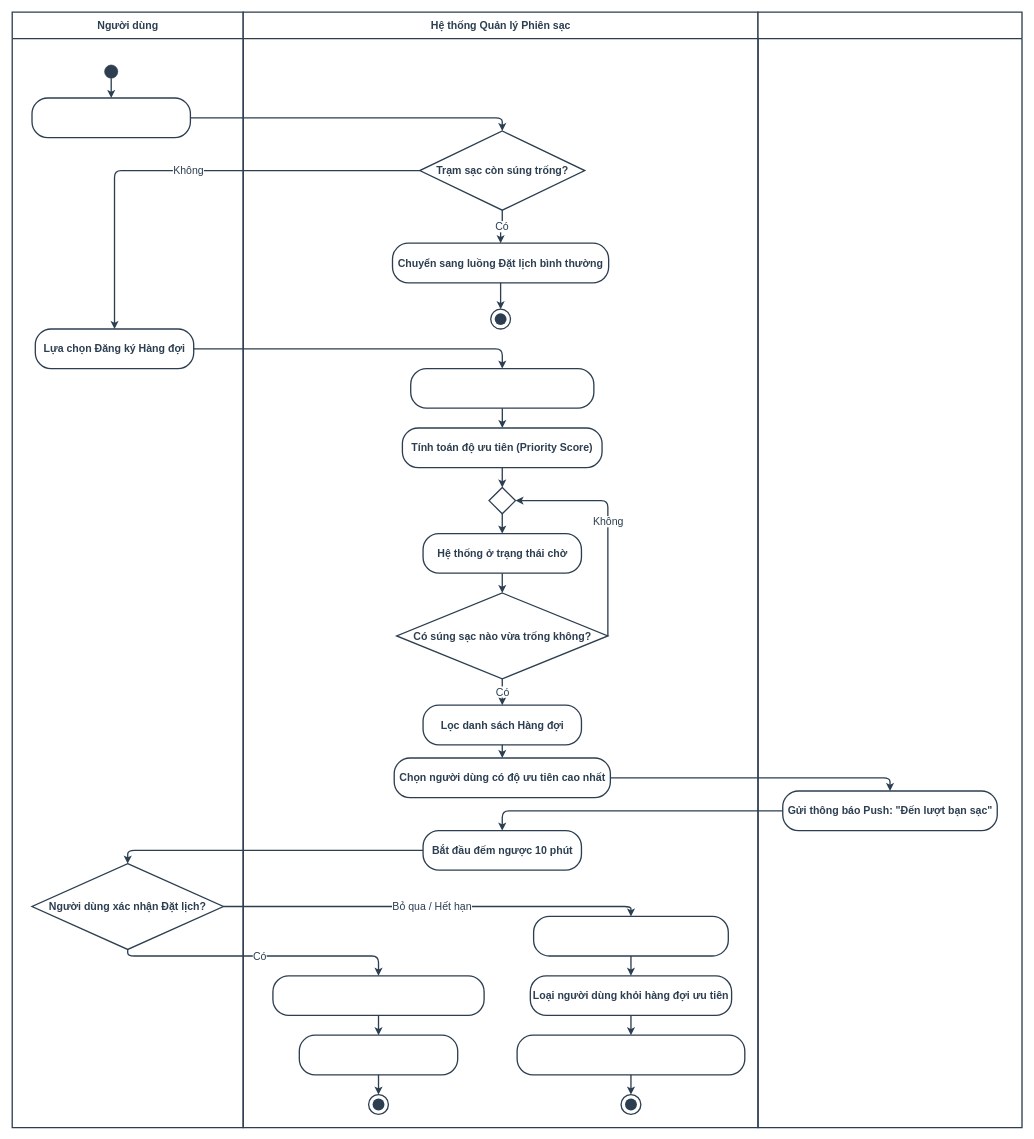
The diagram is 1034 pixels wide and 1139 high, and some of its shapes have lost their labels. The shapes that lost their labels are listed below. From the top down, each one's box as (x1, y1, x2, y2) in pixels, then its label:
(31, 97, 191, 138): Yêu cầu đặt lịch tại Trạm sạc
(410, 368, 594, 409): Ghi nhận vào danh sách Hàng đợi
(757, 11, 1022, 1128): Hệ thống Thông báo
(533, 915, 729, 956): Đánh dấu bản ghi Hàng đợi là Hết hạn
(272, 975, 484, 1016): Chuyển bản ghi Hàng đợi thành Hoàn tất
(298, 1034, 458, 1075): Khóa slot cho người dùng
(516, 1034, 745, 1075): Chuyển slot cho người tiếp theo trong hàng
